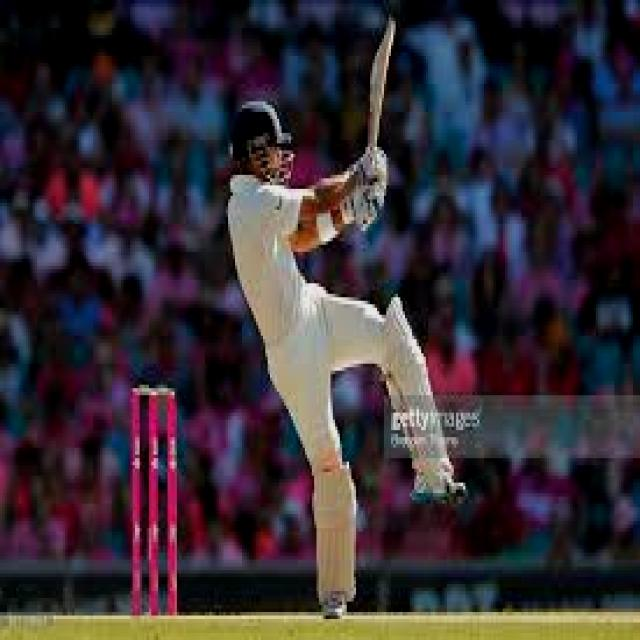toe: (378, 20, 400, 59)
